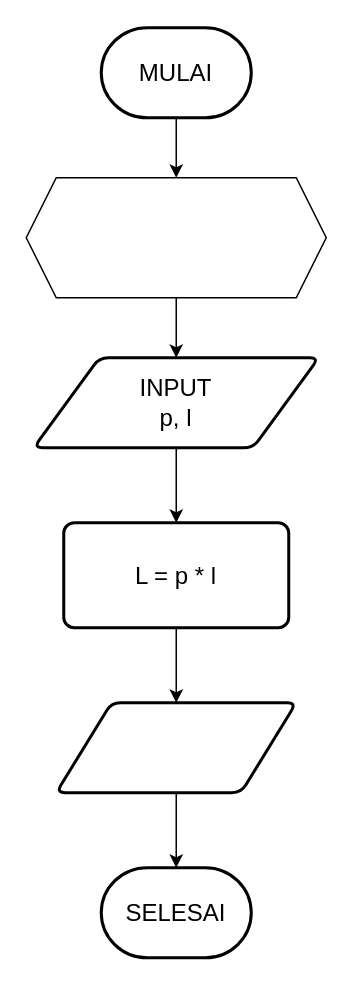
The diagram is 353 pixels wide and 984 high, and some of its shapes have lost their labels. The centre of each missing label's shape, as x and y in pixels:
DEKLARASI L, p, l = int: pixel 175 237
PRINT L: pixel 175 747
